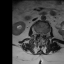CCS_normal: (40, 31, 42, 39)
LFS_normal: (43, 31, 45, 37)
LLS_normal: (42, 31, 43, 38)
RFS_stenosis: (37, 30, 38, 36)
RLS_stenosis: (38, 31, 40, 37)
